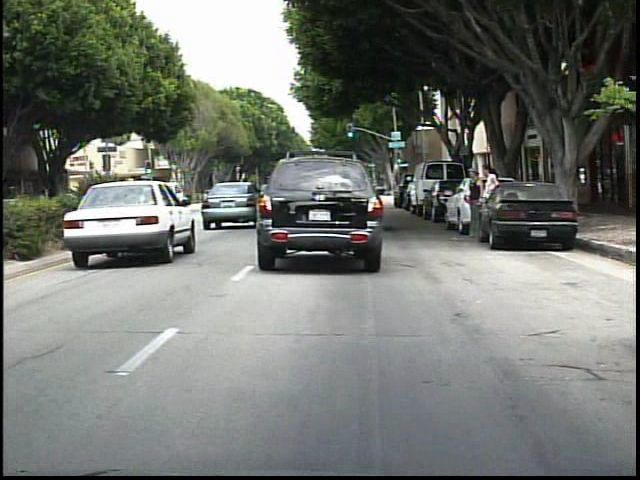person: (464, 168, 487, 242), (481, 162, 503, 238)
